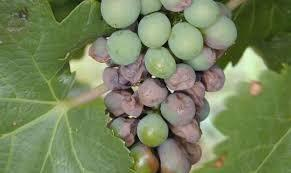Grape Rotten: (88, 1, 238, 172)
